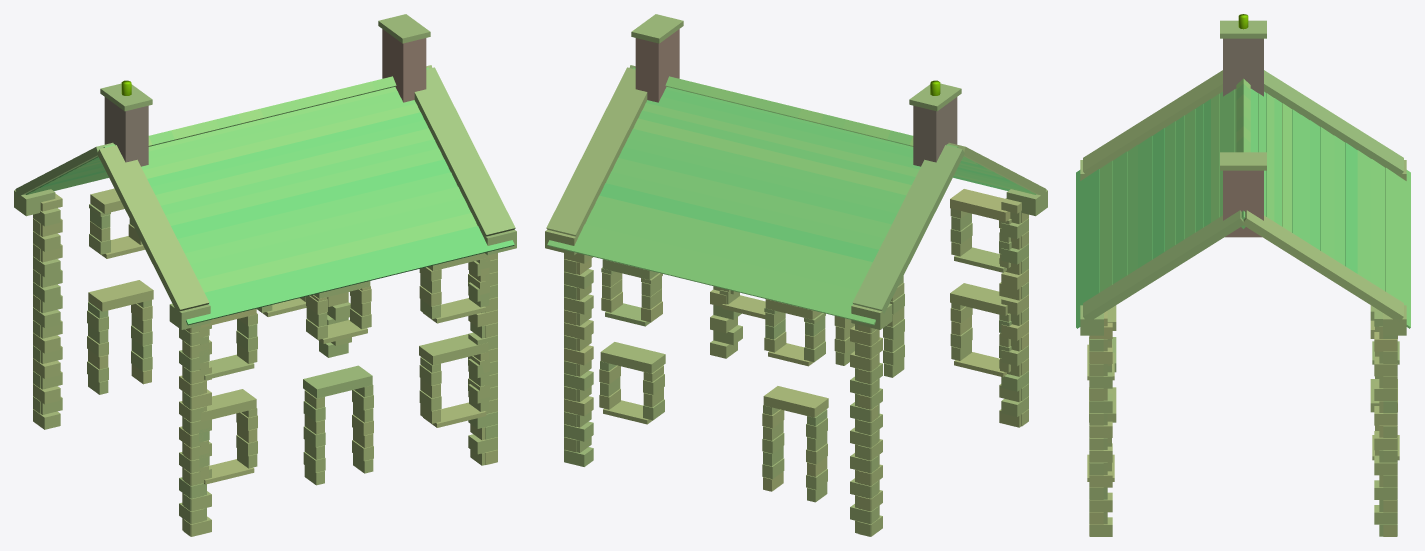
The model's file is SM_Bld_121_Stone.glb.
The picture shows the model from 3 angles, left to right: view 1: azimuth 30°, elevation 25°; view 2: azimuth 150°, elevation 25°; view 3: azimuth 270°, elevation 25°; orthographic projection. The views are drawn at different scales.
Visible parts, largest first — view 1: SM_Bld_121_Stone; view 2: SM_Bld_121_Stone; view 3: SM_Bld_121_Stone.
Boxes of the visible parts, x1,y1,x2,y2 form: SM_Bld_121_Stone: [14, 14, 516, 536]; SM_Bld_121_Stone: [545, 14, 1047, 536]; SM_Bld_121_Stone: [1076, 14, 1410, 536].
Bounding box in the file's own units: 8.28 × 9.27 × 7.36.
